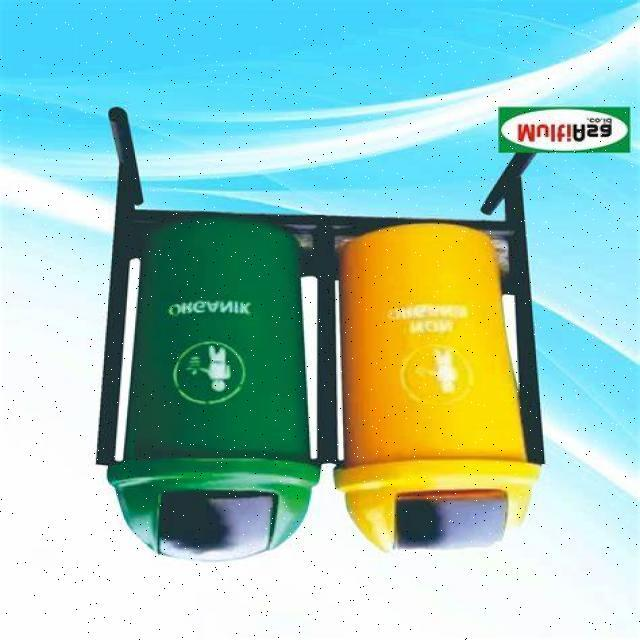garbage container: (87, 207, 345, 575), (335, 213, 554, 574)
